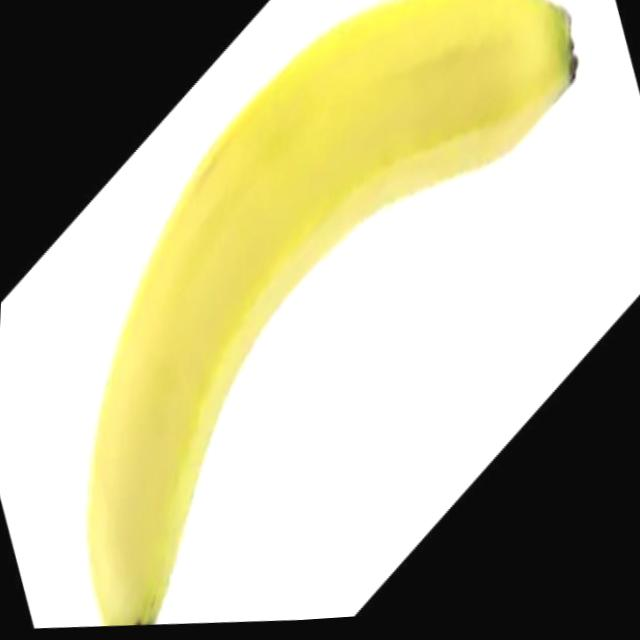Banana: (82, 0, 583, 636)
